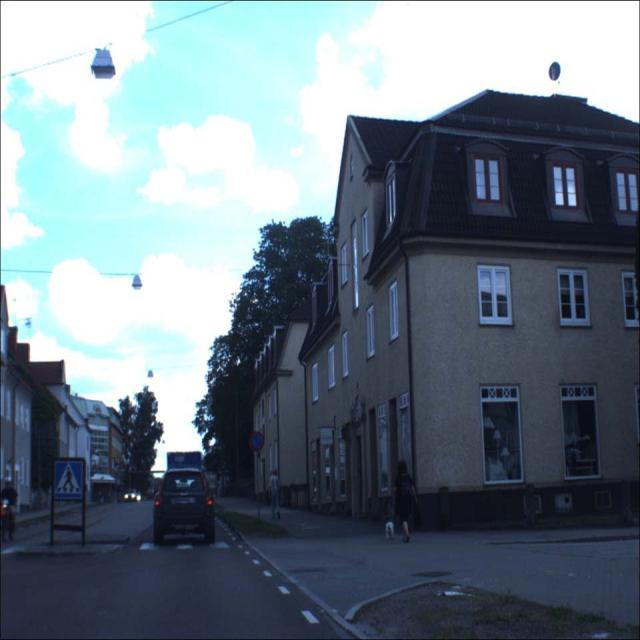parkyasak: (249, 432, 264, 452)
